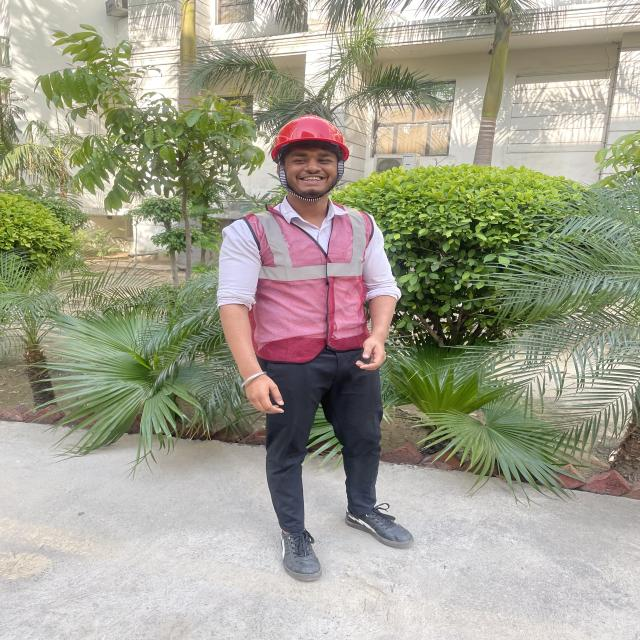safe: (212, 116, 413, 580)
